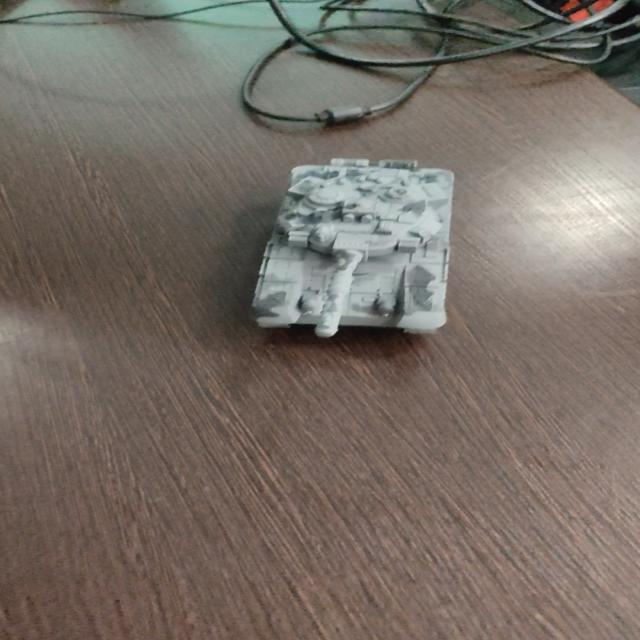tank: (235, 151, 467, 346)
